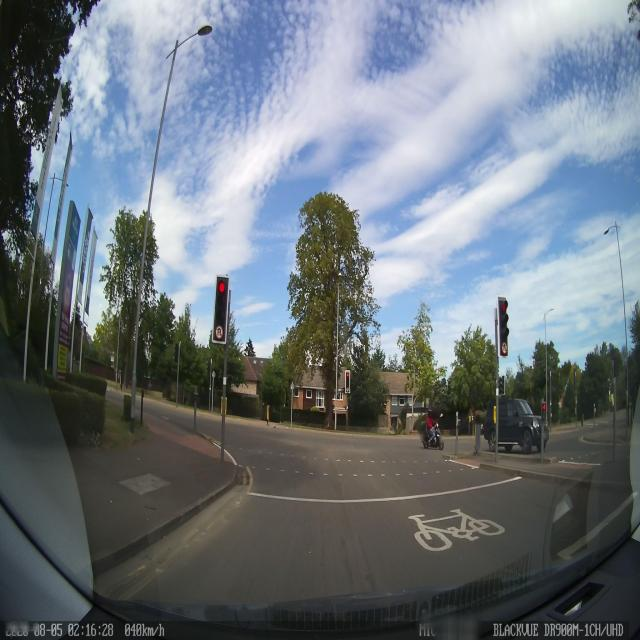bike: (422, 415, 443, 449)
car: (482, 396, 550, 454)
